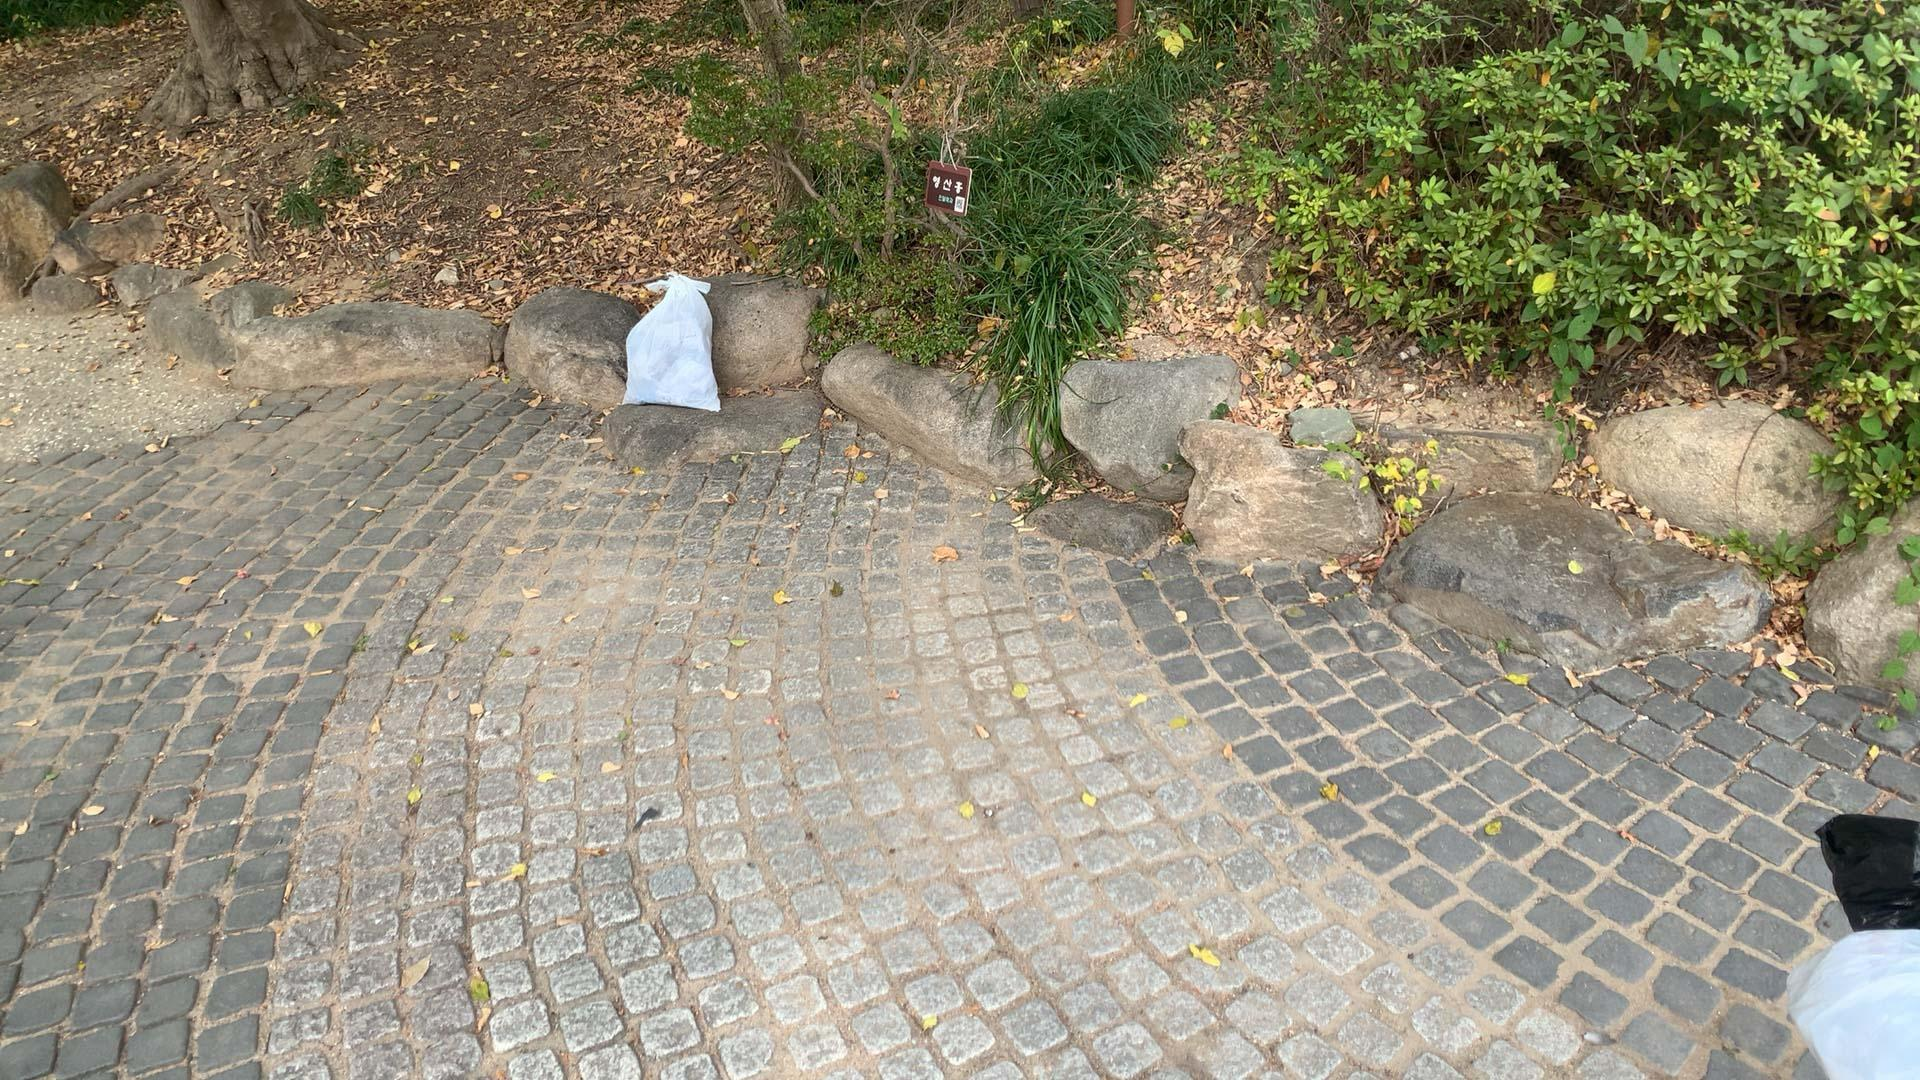white_bag: (611, 266, 737, 421)
